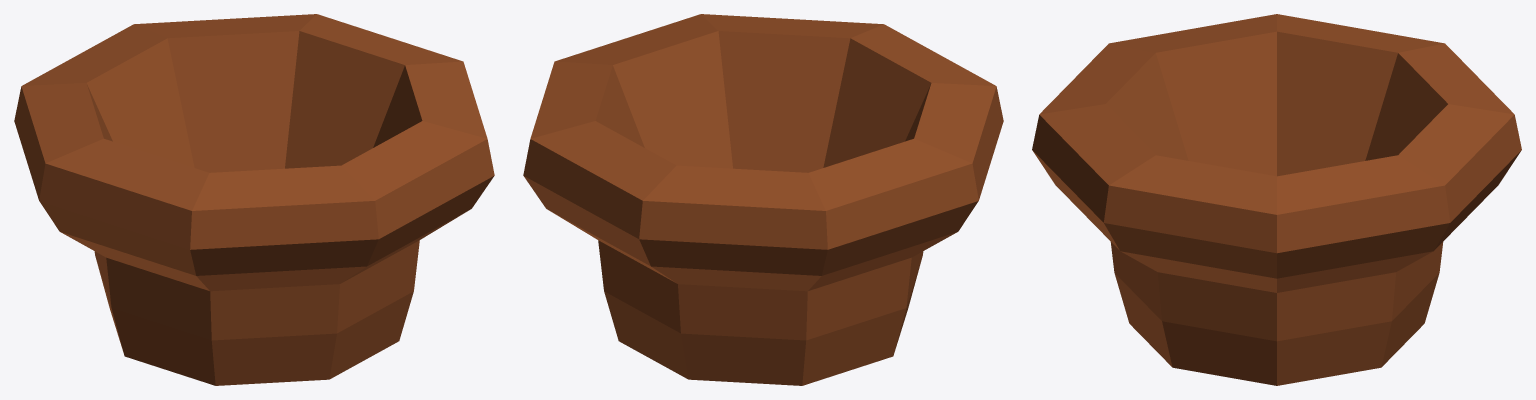
The model's file is Pot.fbx.
The picture shows the model from 3 angles, left to right: view 1: azimuth 30°, elevation 25°; view 2: azimuth 150°, elevation 25°; view 3: azimuth 270°, elevation 25°; orthographic projection.
Visible parts, largest first — view 1: Planter; view 2: Planter; view 3: Planter.
Part boxes in pixels (left/top/right/bottom): Planter: left=14, top=14, right=494, bottom=385; Planter: left=523, top=14, right=1003, bottom=385; Planter: left=1032, top=14, right=1521, bottom=385.
Bounding box in the file's own units: 95.05 × 47 × 95.05.
